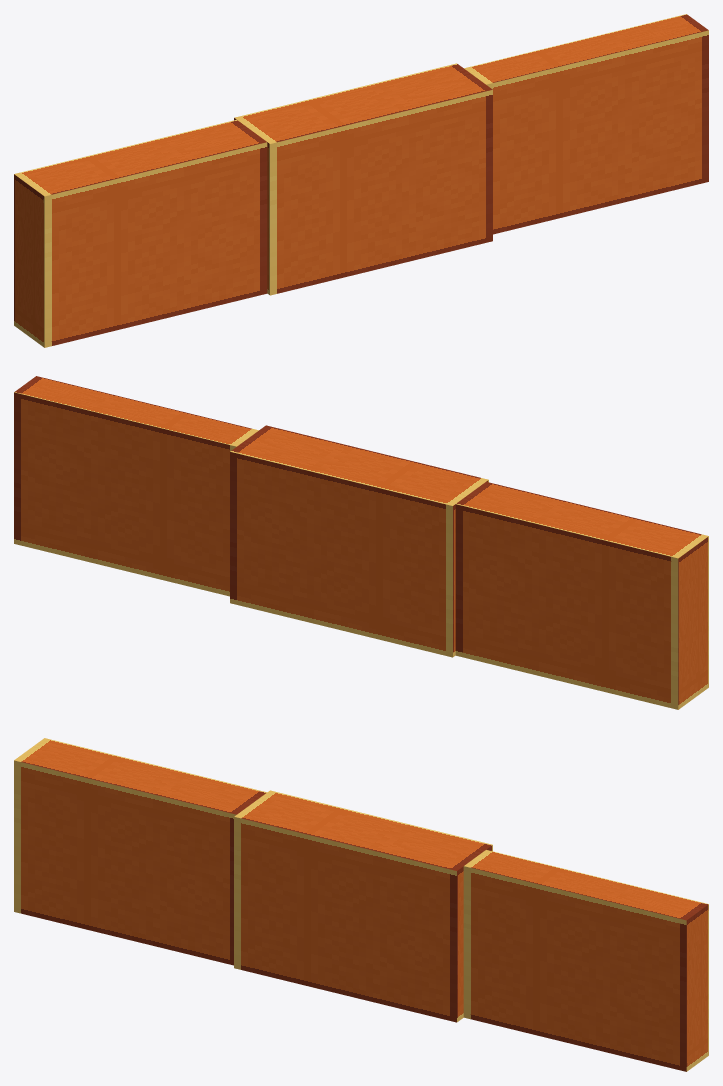
File: bench_flying_sword_0_hot.obj
3 views of the same model, one above another, from view 1: azimuth 30°, elevation 25°; view 2: azimuth 150°, elevation 25°; view 3: azimuth 330°, elevation 25° (orthographic).
Visible parts, largest first — view 1: geometry; view 2: geometry; view 3: geometry.
Boxes of the visible parts, x1,y1,x2,y2 form: geometry: (14, 14, 708, 347); geometry: (14, 376, 708, 709); geometry: (14, 738, 708, 1071).
Bounding box in the file's own units: 0.75 × 0.1624 × 0.07.
